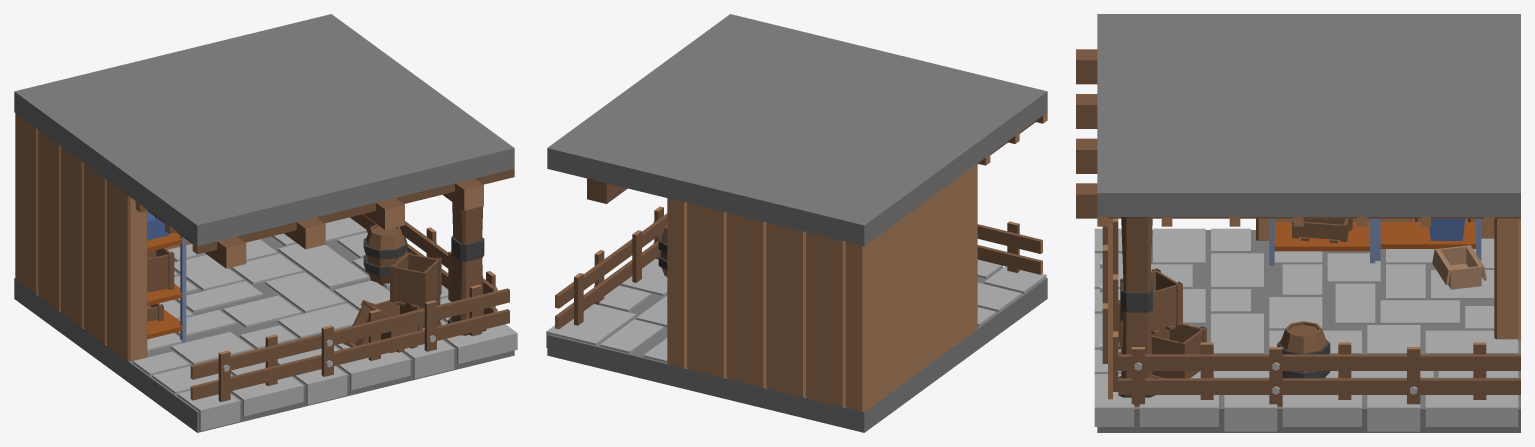
The model's file is ResourceStorage_Level_01_Corner.fbx.
The picture shows the model from 3 angles, left to right: view 1: azimuth 30°, elevation 25°; view 2: azimuth 150°, elevation 25°; view 3: azimuth 270°, elevation 25°; orthographic projection. The views are drawn at different scales.
Parts seen in each view (by area): view 1: ResourceStorage_Level_01_Corner; view 2: ResourceStorage_Level_01_Corner; view 3: ResourceStorage_Level_01_Corner.
Part boxes in pixels (x1,y1,x2,y2): ResourceStorage_Level_01_Corner: (14,14,517,432); ResourceStorage_Level_01_Corner: (546,14,1047,432); ResourceStorage_Level_01_Corner: (1076,14,1520,432).
Size of the model in its own units: 8.05 by 5 by 8.4.
